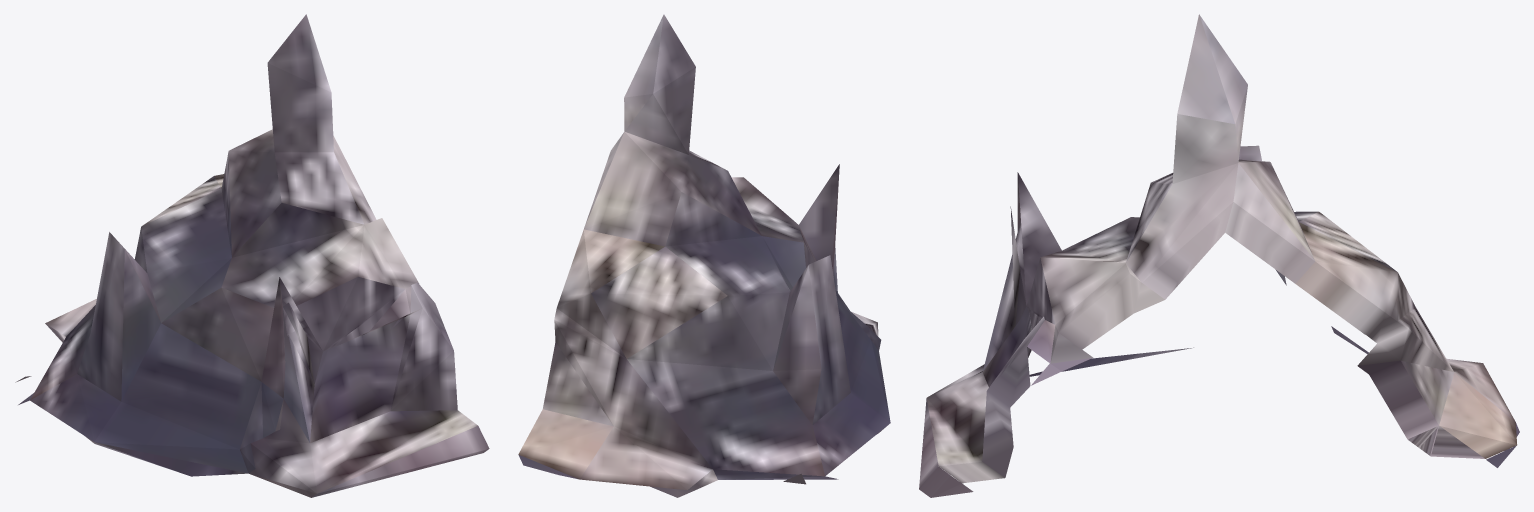
3 views of the same model, side by side, from view 1: azimuth 30°, elevation 25°; view 2: azimuth 150°, elevation 25°; view 3: azimuth 270°, elevation 25° (orthographic). The views are drawn at different scales.
Visible parts, largest first — view 1: Mesh_0; view 2: Mesh_0; view 3: Mesh_0.
Boxes of the visible parts, x1,y1,x2,y2 form: Mesh_0: [15, 14, 489, 497]; Mesh_0: [518, 14, 890, 497]; Mesh_0: [919, 14, 1519, 497].
Bounding box in the file's own units: 6.7 × 8.13 × 9.71.
1 material, 1 textured.
